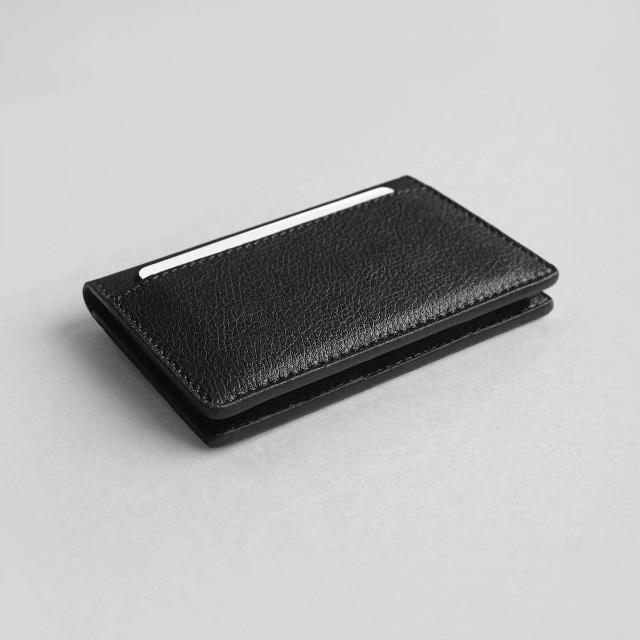Wallet: (82, 168, 564, 452)
